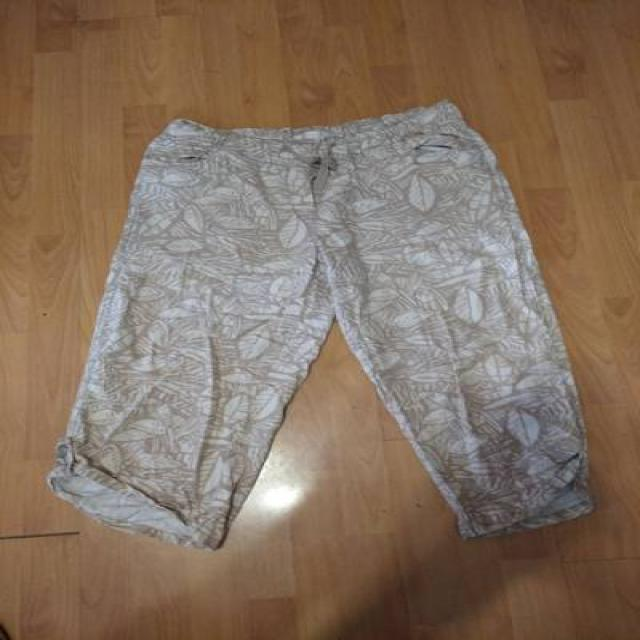Clothes -Biodegradable-: (51, 98, 601, 551)
